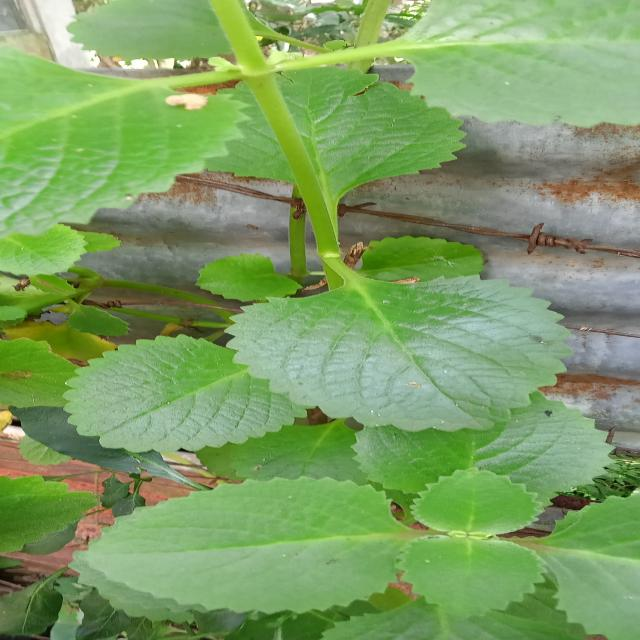Oregano: (0, 460, 640, 640), (209, 263, 640, 443), (1, 48, 274, 257), (46, 474, 428, 614), (308, 346, 640, 493), (59, 322, 350, 471), (384, 466, 568, 616), (333, 217, 517, 288), (196, 243, 322, 325)
